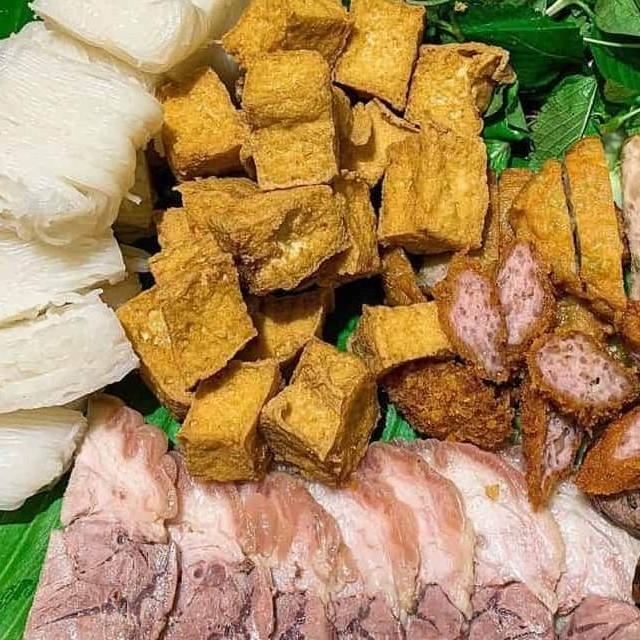bun: (0, 0, 301, 528)
bun dau: (0, 0, 640, 640)
cha com: (365, 229, 640, 521), (502, 119, 640, 333)
dau hu: (106, 0, 526, 487)
doi sun: (577, 413, 640, 617)
thit heo: (5, 382, 182, 640), (380, 426, 573, 640), (483, 436, 640, 640), (130, 444, 285, 640), (335, 434, 480, 640), (275, 456, 426, 640), (199, 465, 351, 640)
